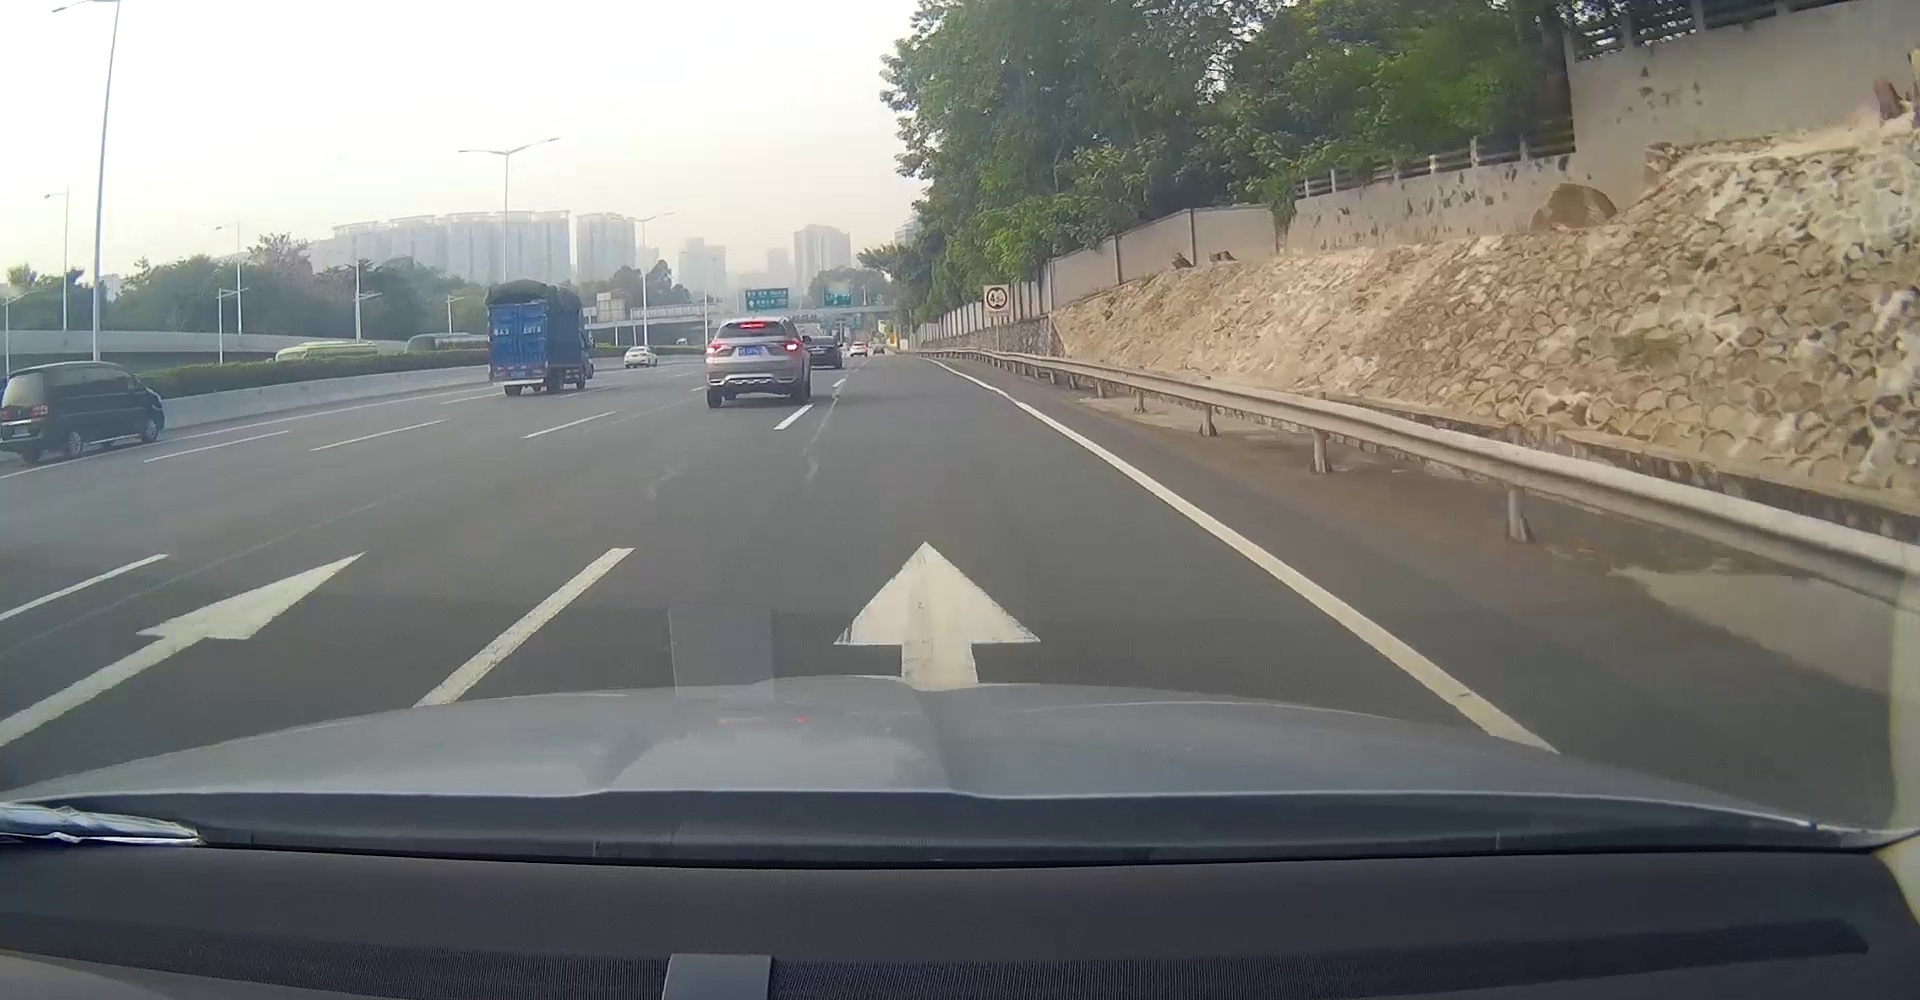L_light: (706, 343, 731, 355), (0, 410, 11, 421), (493, 371, 508, 378)
R_light: (775, 340, 801, 352), (29, 404, 48, 418), (530, 368, 543, 376)
T_light: (739, 322, 764, 329), (510, 305, 524, 308), (17, 372, 29, 376)
day-brake: (703, 317, 804, 409)
day-no: (485, 280, 550, 395), (0, 367, 51, 464)
